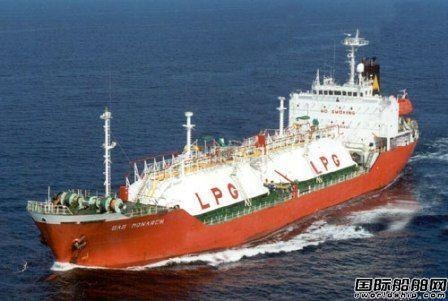Cargoship: (22, 29, 426, 272)
